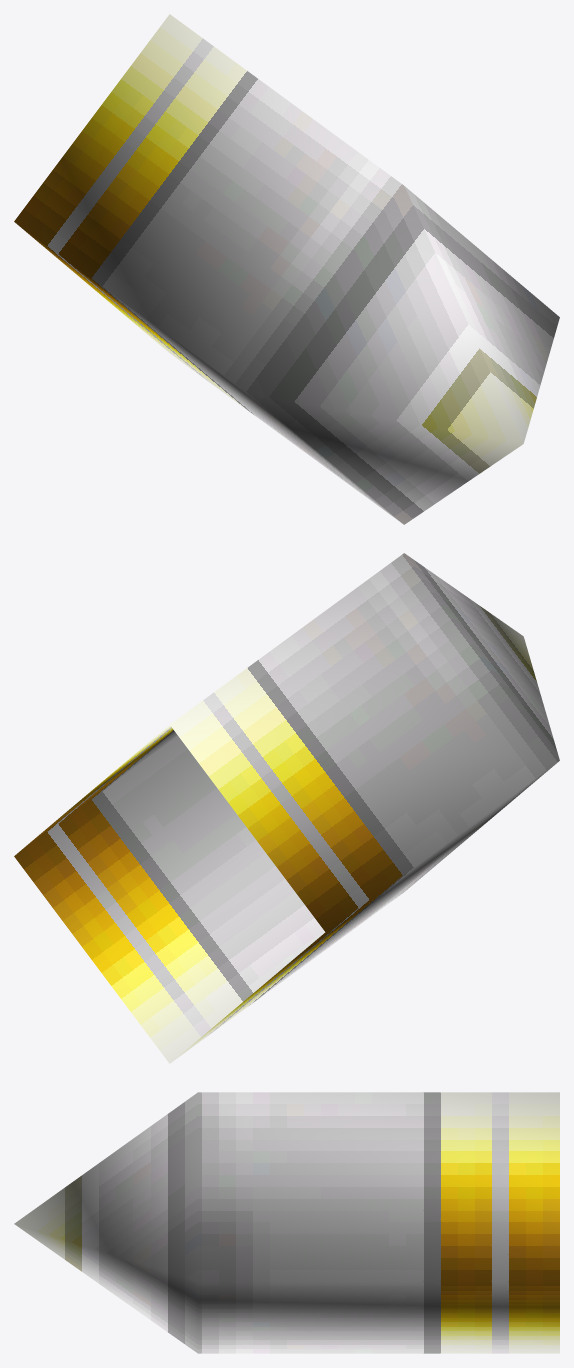
3 renders of one model, top to bottom at view 1: azimuth 30°, elevation 25°; view 2: azimuth 150°, elevation 25°; view 3: azimuth 270°, elevation 25°, orthographic. The views are drawn at different scales.
Parts seen in each view (by area): view 1: bb7f670c; view 2: bb7f670c; view 3: bb7f670c.
Boxes of the visible parts, x1,y1,x2,y2 form: bb7f670c: (14,14,559,524); bb7f670c: (14,553,559,1063); bb7f670c: (14,1092,559,1353).
Bounding box in the file's own units: 1.36 × 1.42 × 2.68.
Materials: 1 (1 with a texture image).
